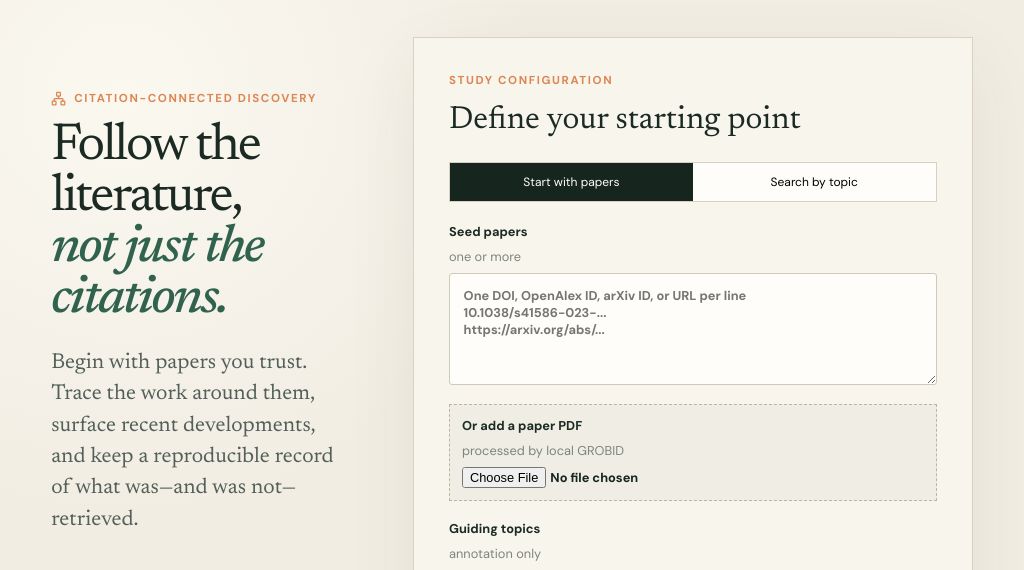
it: StudyConfiguration › searches by topic and enables graph creation after paper selection
Click the button "Search by topic": (814, 182) [693,163,936,201]
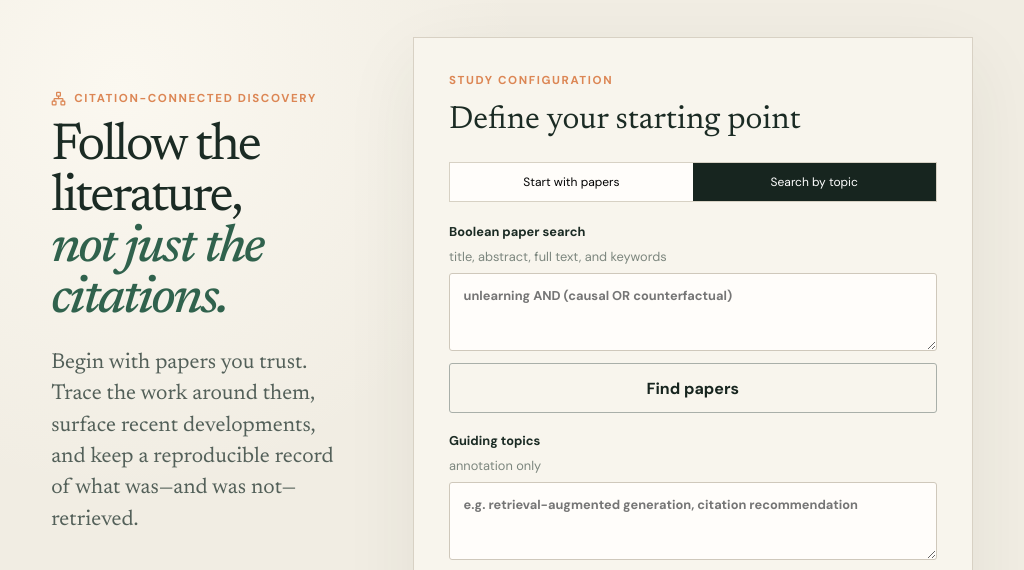
In the text box labelled "Boolean paper search": (693, 312) [449,273,937,351], type "unlearning AND causal"
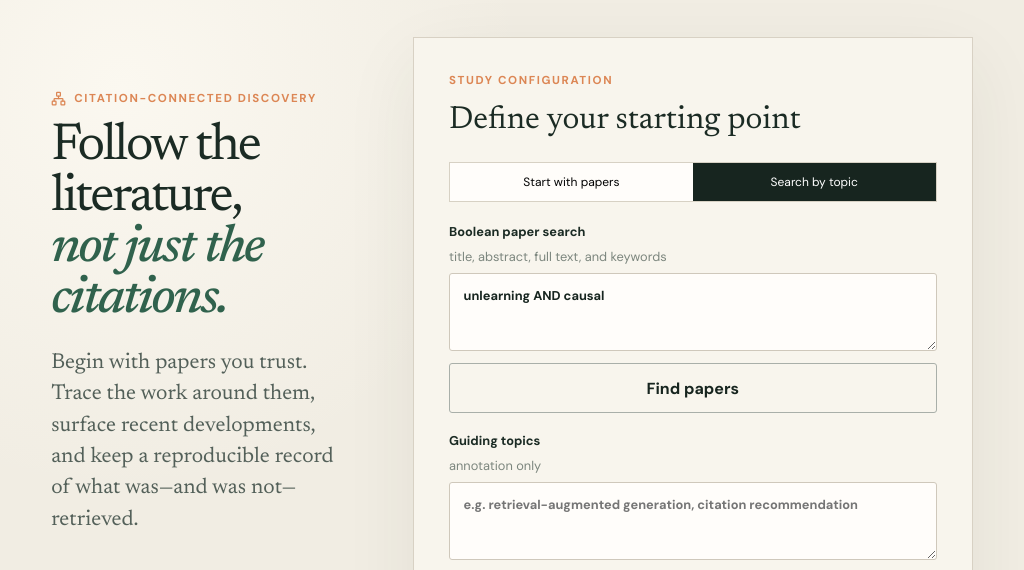
Click the button "Find papers": (693, 388) [449,363,937,413]
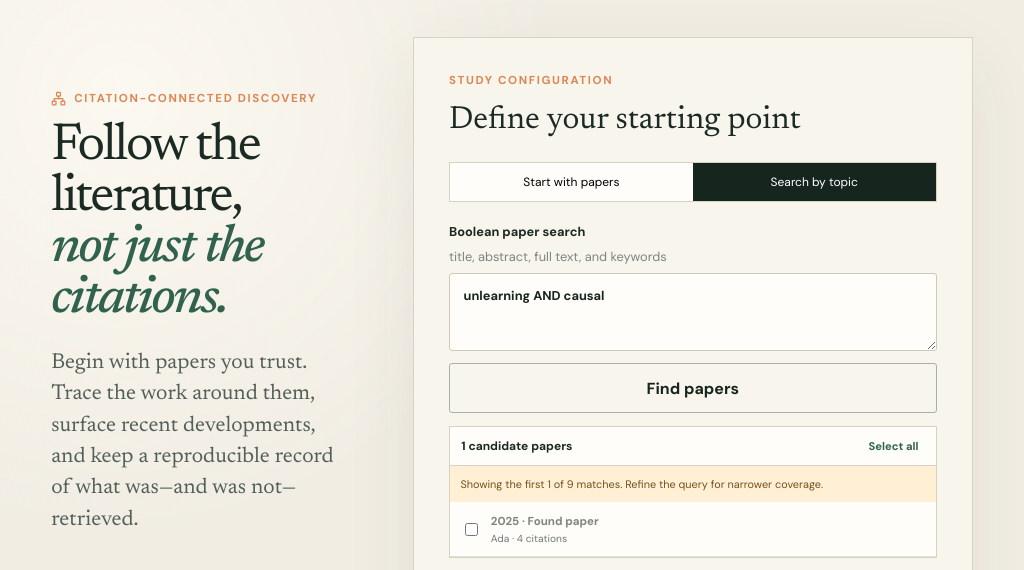
Check: the text "2025 · Found paper" is shown, box [491,514,599,528]
Check: the text "Showing the first 1 of 9 matches" is shown, box [450,466,936,502]
Click the checkbox: (472, 529) [465,517,478,542]
(page scrolled)
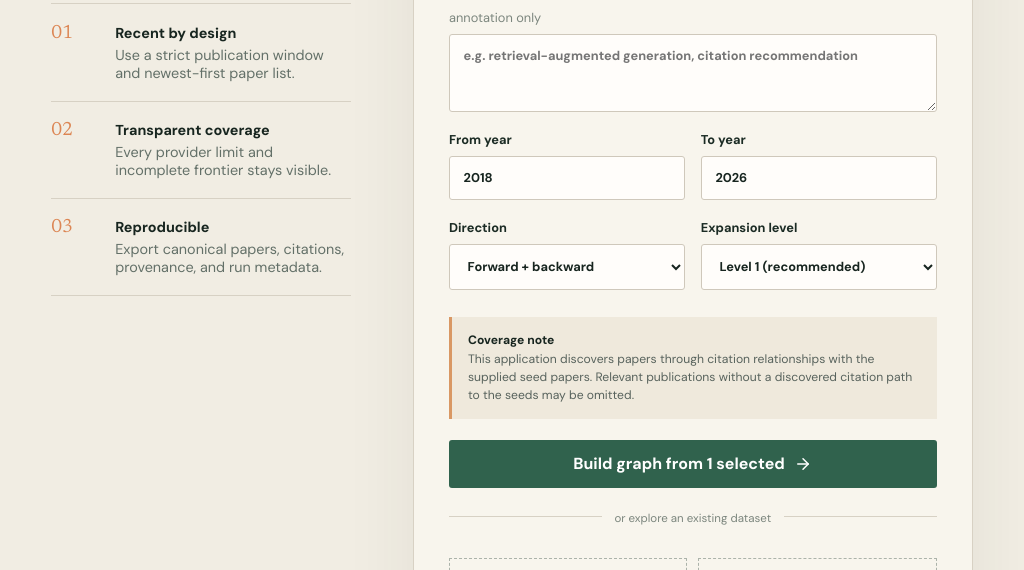
Check: the button "Build graph from 1 selected" is enabled, box [449,440,937,488]
